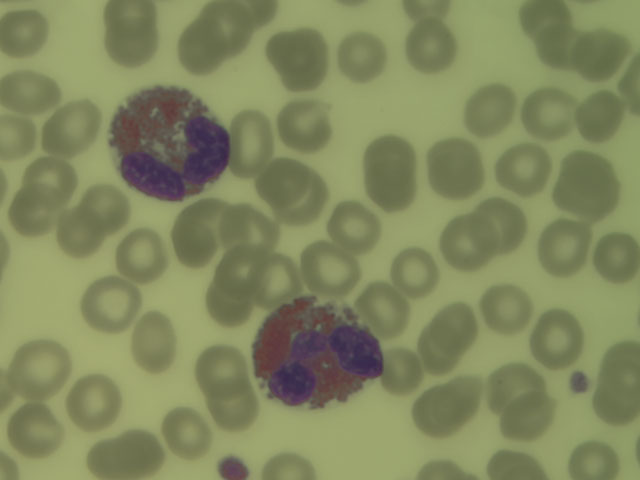Platelets: (216, 456, 252, 480), (568, 372, 592, 395)
RBC: (557, 151, 622, 218), (82, 432, 159, 477), (11, 340, 73, 392), (223, 199, 276, 257), (430, 137, 481, 196), (300, 244, 361, 293), (7, 405, 64, 456), (68, 377, 124, 428), (174, 205, 227, 257), (357, 282, 409, 334), (328, 200, 383, 249), (361, 165, 416, 214), (539, 220, 587, 276), (82, 281, 140, 327), (438, 213, 490, 264), (197, 345, 250, 395), (473, 200, 527, 249), (118, 228, 167, 281), (132, 311, 176, 370), (100, 24, 159, 67), (489, 364, 543, 410), (210, 382, 259, 432), (393, 249, 444, 297), (536, 310, 584, 361), (203, 1, 255, 48), (291, 24, 328, 89), (232, 113, 272, 173), (497, 146, 551, 190), (500, 391, 551, 437), (484, 284, 531, 333), (596, 376, 640, 428), (414, 389, 464, 434), (2, 73, 61, 111), (47, 106, 99, 149), (407, 27, 455, 73), (281, 102, 329, 148), (464, 86, 513, 131), (568, 440, 622, 480), (581, 93, 630, 137), (165, 408, 207, 459), (204, 280, 252, 324), (84, 185, 132, 228), (598, 233, 640, 282), (259, 256, 303, 302), (343, 33, 387, 79), (176, 22, 217, 71), (585, 26, 626, 75), (216, 255, 267, 294), (1, 9, 46, 53), (8, 188, 57, 228), (600, 336, 640, 385), (526, 88, 570, 132), (416, 325, 462, 367), (257, 161, 305, 199), (25, 159, 74, 195), (435, 306, 479, 345), (259, 451, 316, 480), (1, 113, 36, 159), (105, 1, 162, 29), (284, 176, 326, 214), (440, 373, 484, 409), (523, 2, 572, 34), (539, 29, 584, 62), (383, 353, 422, 391), (57, 215, 97, 252), (365, 140, 408, 174), (488, 453, 542, 480), (268, 31, 303, 70), (415, 459, 472, 480), (406, 1, 448, 26)
WBC: (252, 305, 385, 405), (111, 87, 228, 197)
